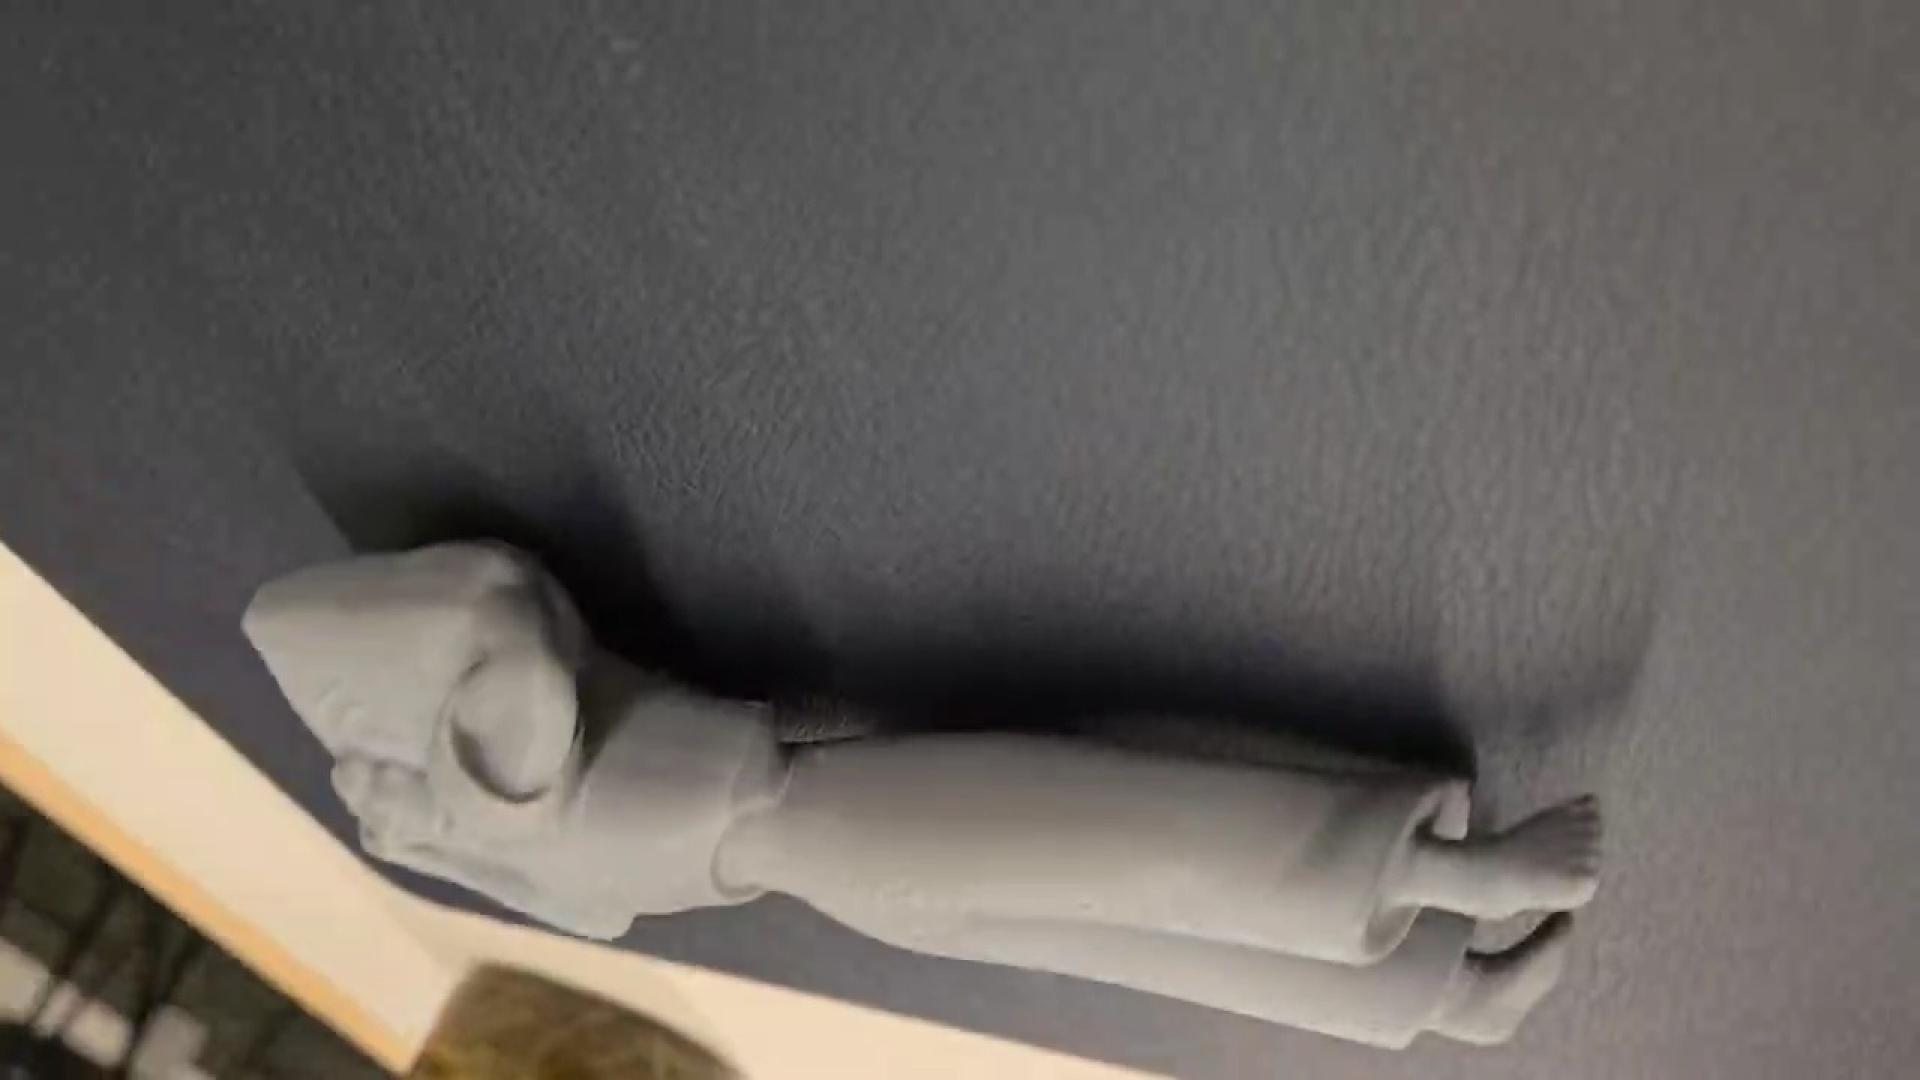Bad-style: (245, 542, 1613, 1054)
